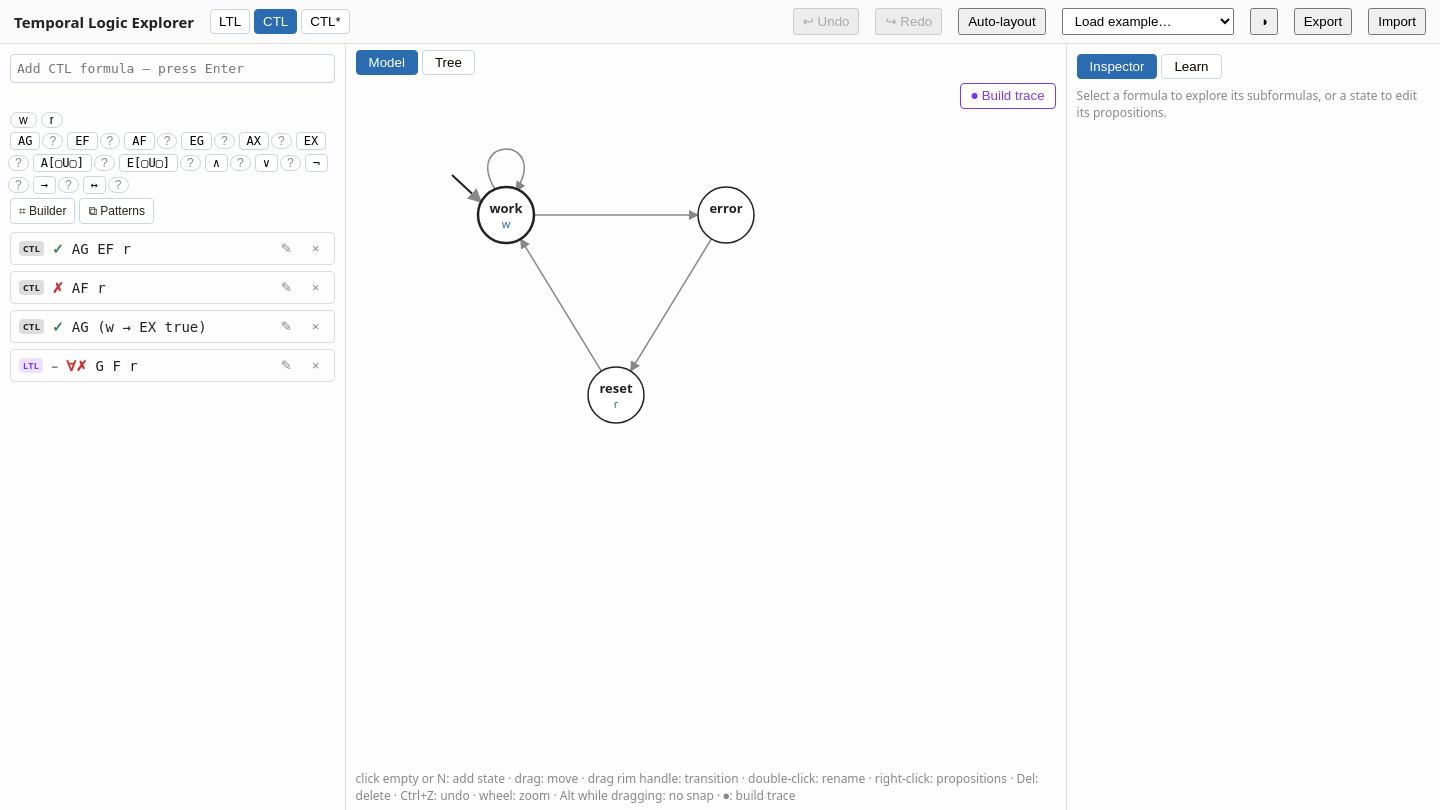
Workbench drawer › builder mode applies the writer lockout: readonly textarea, chips and palette disabled
Check: the button "r" is enabled, box left=41, top=112, right=63, bottom=128
Click the button "⌗ Builder". click: (43, 211)
box: left=10, top=198, right=76, bottom=224
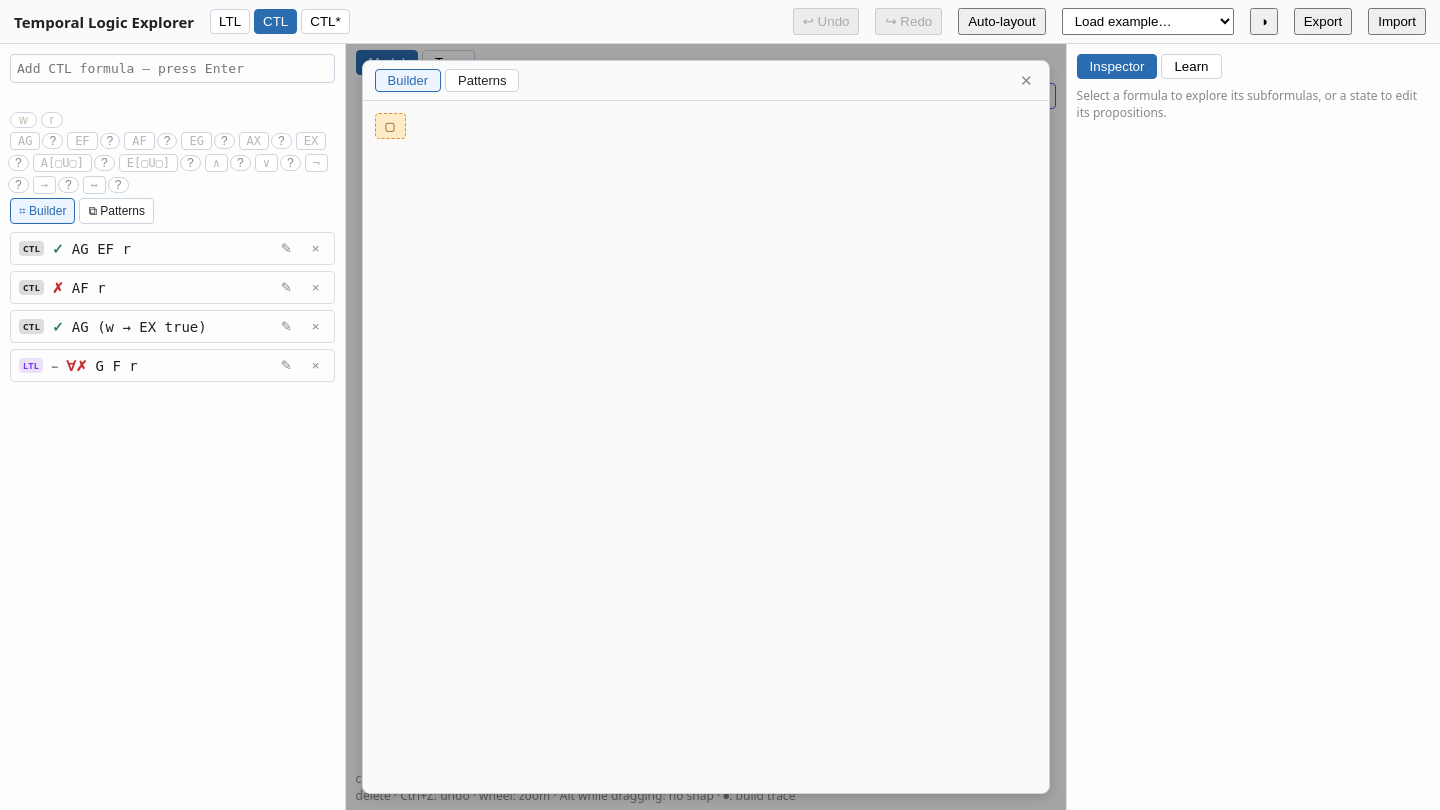
Check: the button "r" is disabled, box left=41, top=112, right=63, bottom=128
Check: the button with class "op-btn" showing "AG" is disabled, box left=10, top=132, right=40, bottom=150
Click the button with class "workbench-close". click: (1026, 80)
box: left=1016, top=72, right=1037, bottom=90
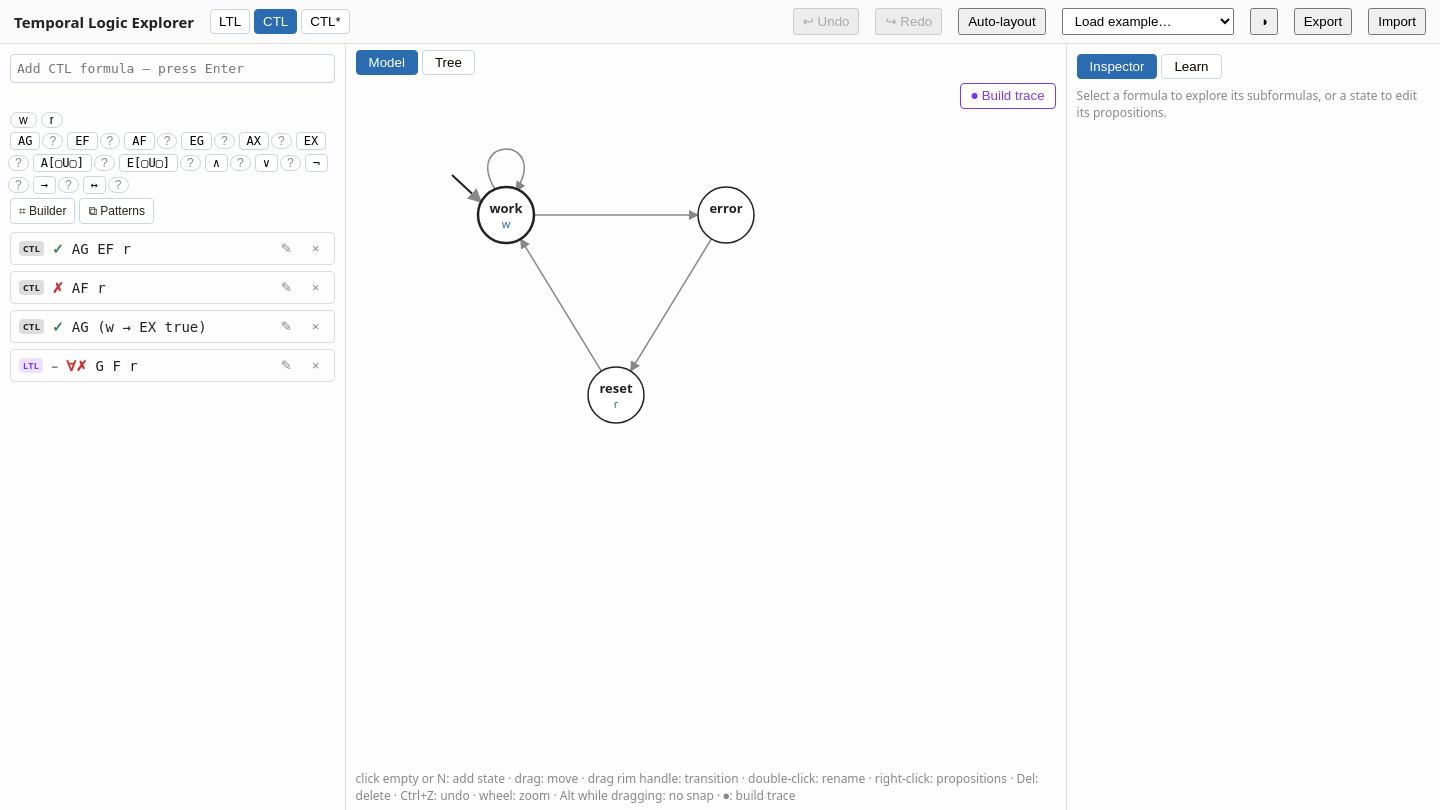
Check: the button "r" is enabled, box left=41, top=112, right=63, bottom=128
Check: the button with class "op-btn" showing "AG" is enabled, box left=10, top=132, right=40, bottom=150
